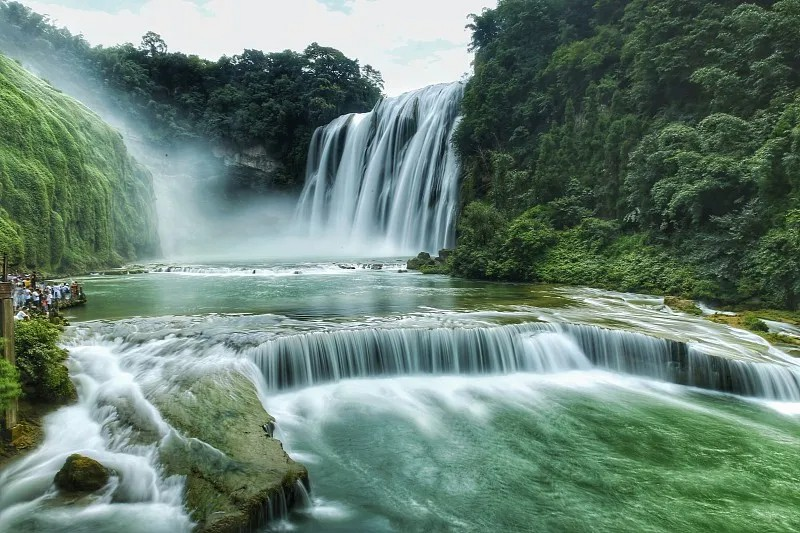Huangguoshu: (294, 85, 460, 257)
